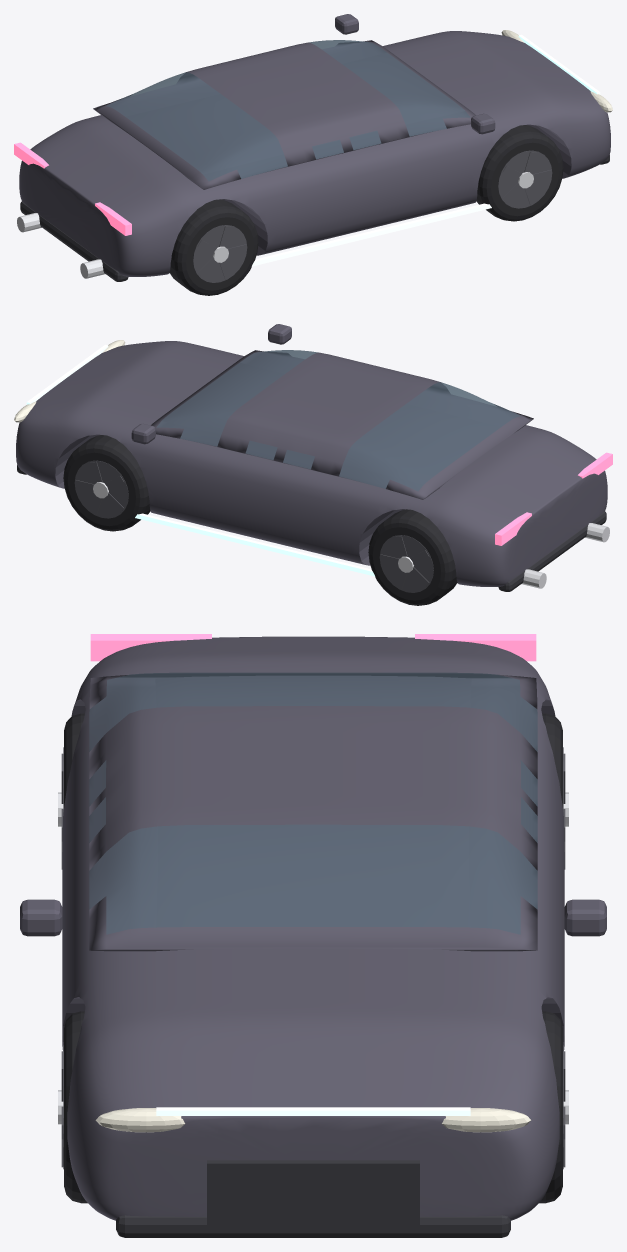
The model's file is night_phantom.fbx.
3 views of the same model, one above another, from view 1: azimuth 30°, elevation 25°; view 2: azimuth 150°, elevation 25°; view 3: azimuth 270°, elevation 25° (orthographic). The views are drawn at different scales.
Visible parts, largest first — view 1: Body.008, Glass.008, Tire.008, Rim.008, Neon, Chrome.008, Trim.008, TailLight.008; view 2: Body.008, Glass.008, Tire.008, Rim.008, Neon, Chrome.008, Trim.008, TailLight.008; view 3: Body.008, Glass.008, Trim.008, Tire.008, HeadLight.008, TailLight.008, Neon, Rim.008.
Boxes of the visible parts, bbox=[...] form: Body.008: bbox=[19, 14, 610, 276]; Glass.008: bbox=[106, 40, 470, 181]; Tire.008: bbox=[169, 125, 563, 295]; Rim.008: bbox=[193, 150, 552, 282]; Neon: bbox=[251, 34, 600, 266]; Chrome.008: bbox=[17, 172, 533, 278]; Trim.008: bbox=[20, 155, 609, 281]; TailLight.008: bbox=[14, 142, 131, 235]; Body.008: bbox=[16, 324, 607, 586]; Glass.008: bbox=[156, 350, 520, 491]; Tire.008: bbox=[63, 435, 457, 605]; Rim.008: bbox=[74, 460, 433, 592]; Neon: bbox=[26, 344, 375, 576]; Chrome.008: bbox=[93, 482, 609, 588]; Trim.008: bbox=[17, 465, 606, 591]; TailLight.008: bbox=[495, 452, 612, 545]; Body.008: bbox=[20, 636, 606, 1220]; Glass.008: bbox=[89, 672, 537, 934]; Trim.008: bbox=[116, 1160, 510, 1237]; Tire.008: bbox=[64, 713, 562, 1203]; HeadLight.008: bbox=[95, 1108, 531, 1132]; TailLight.008: bbox=[90, 634, 536, 661]; Neon: bbox=[156, 1107, 470, 1115]; Rim.008: bbox=[61, 747, 565, 1169].
Size of the model in its own units: 1540 by 380 by 765.
